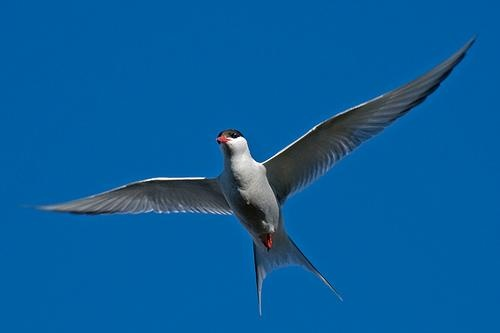bird: (24, 38, 480, 314)
